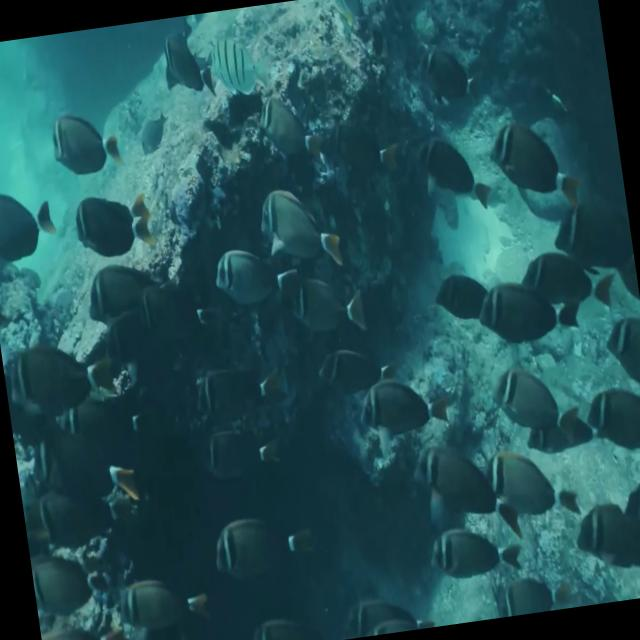fish: (1, 325, 132, 434), (472, 264, 592, 360), (481, 108, 580, 220), (205, 496, 328, 584), (482, 436, 590, 536), (422, 496, 532, 588), (176, 338, 282, 430), (522, 229, 626, 320), (30, 472, 132, 562), (414, 428, 506, 524), (354, 367, 456, 452), (566, 487, 640, 602), (250, 177, 346, 265), (41, 98, 130, 192), (36, 432, 146, 508), (415, 122, 497, 222), (280, 252, 370, 343), (486, 352, 570, 442), (111, 568, 210, 640), (205, 236, 287, 320), (192, 406, 284, 480), (0, 177, 65, 280), (251, 90, 328, 170), (83, 253, 160, 332), (30, 548, 110, 622), (416, 29, 486, 112), (199, 22, 268, 105), (70, 184, 156, 248), (526, 400, 606, 468), (429, 248, 490, 328), (152, 28, 218, 101), (578, 382, 640, 459), (489, 555, 561, 618), (350, 579, 422, 638), (597, 302, 640, 393), (329, 340, 392, 401), (130, 96, 178, 166), (246, 605, 323, 640), (368, 599, 438, 636), (616, 456, 640, 529)
